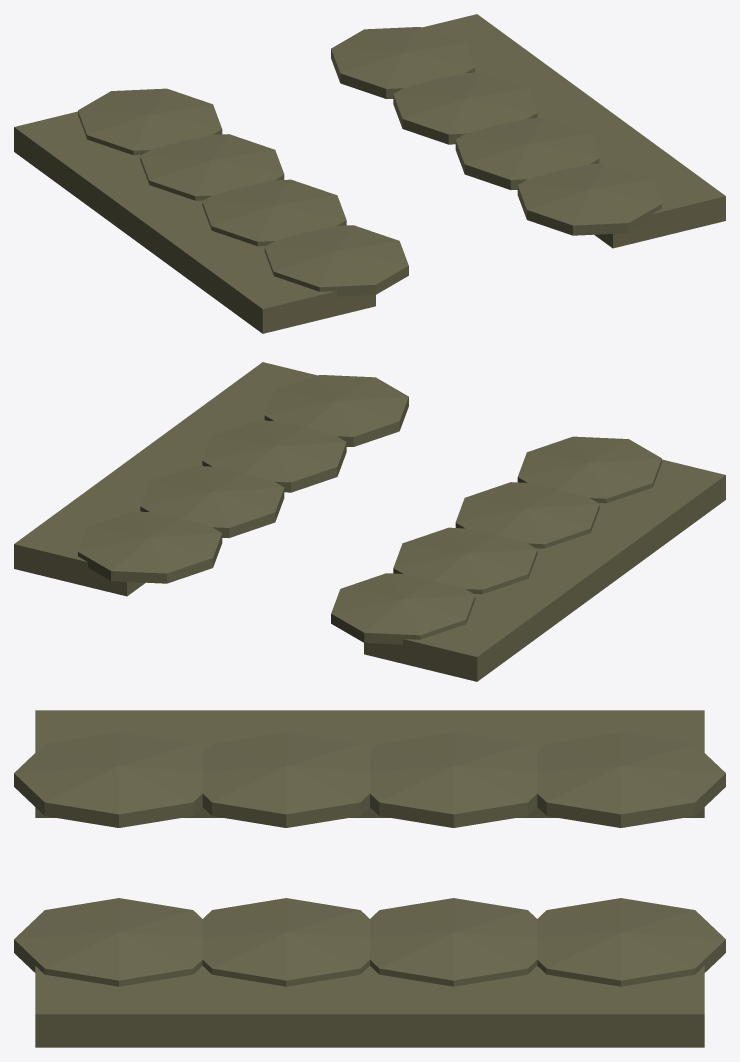
Rendered from channel_bank_straight_a.obj.
3 views of the same model, one above another, from view 1: azimuth 30°, elevation 25°; view 2: azimuth 150°, elevation 25°; view 3: azimuth 270°, elevation 25° (orthographic). The views are drawn at different scales.
Parts seen in each view (by area): view 1: bank_-1, bank_1, bank_lip_1_3, bank_lip_-1_3, bank_lip_1_-3, bank_lip_1_-1, bank_lip_1_1, bank_lip_-1_-3, bank_lip_-1_-1, bank_lip_-1_1; view 2: bank_-1, bank_1, bank_lip_1_-3, bank_lip_-1_-3, bank_lip_1_3, bank_lip_1_1, bank_lip_1_-1, bank_lip_-1_3, bank_lip_-1_1, bank_lip_-1_-1; view 3: bank_1, bank_-1, bank_lip_-1_-3, bank_lip_-1_3, bank_lip_-1_-1, bank_lip_-1_1, bank_lip_1_-3, bank_lip_1_3, bank_lip_1_-1, bank_lip_1_1.
Boxes of the visible parts, left/top/right/bottom form: bank_-1: left=14, top=111, right=375, bottom=333; bank_1: left=422, top=14, right=725, bottom=248; bank_lip_1_3: left=517, top=163, right=661, bottom=235; bank_lip_-1_3: left=264, top=225, right=408, bottom=296; bank_lip_1_-3: left=331, top=27, right=475, bottom=98; bank_lip_1_-1: left=393, top=72, right=537, bottom=144; bank_lip_1_1: left=455, top=118, right=599, bottom=189; bank_lip_-1_-3: left=78, top=88, right=222, bottom=155; bank_lip_-1_-1: left=140, top=134, right=284, bottom=200; bank_lip_-1_1: left=202, top=179, right=346, bottom=246; bank_-1: left=364, top=459, right=725, bottom=681; bank_1: left=14, top=362, right=317, bottom=596; bank_lip_1_-3: left=78, top=511, right=222, bottom=583; bank_lip_-1_-3: left=331, top=573, right=475, bottom=644; bank_lip_1_3: left=264, top=375, right=408, bottom=446; bank_lip_1_1: left=202, top=420, right=346, bottom=492; bank_lip_1_-1: left=140, top=466, right=284, bottom=537; bank_lip_-1_3: left=517, top=436, right=661, bottom=503; bank_lip_-1_1: left=455, top=482, right=599, bottom=548; bank_lip_-1_-1: left=393, top=527, right=537, bottom=594; bank_1: left=35, top=966, right=704, bottom=1047; bank_-1: left=35, top=710, right=704, bottom=817; bank_lip_-1_-3: left=537, top=732, right=725, bottom=827; bank_lip_-1_3: left=14, top=732, right=202, bottom=827; bank_lip_-1_-1: left=370, top=732, right=537, bottom=827; bank_lip_-1_1: left=202, top=732, right=369, bottom=827; bank_lip_1_-3: left=537, top=898, right=725, bottom=986; bank_lip_1_3: left=14, top=898, right=202, bottom=986; bank_lip_1_-1: left=370, top=898, right=537, bottom=986; bank_lip_1_1: left=202, top=898, right=369, bottom=986.
Size of the model in its own units: 8.6 by 0.61 by 8.51.
